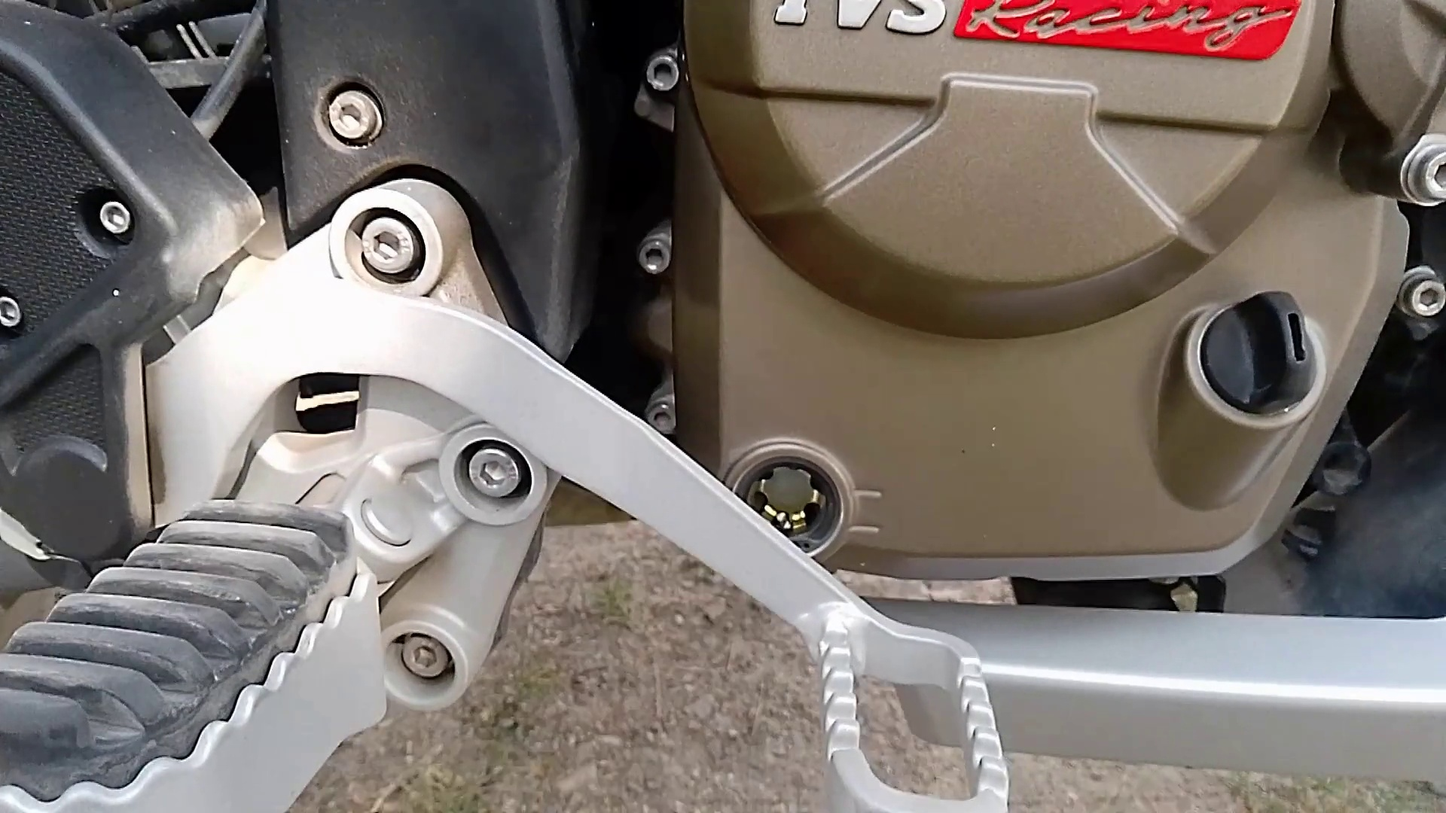bike-engine: (678, 2, 1445, 583)
bike-engine-level: (715, 439, 869, 558)
bike-oil-cap: (1172, 290, 1334, 423)
